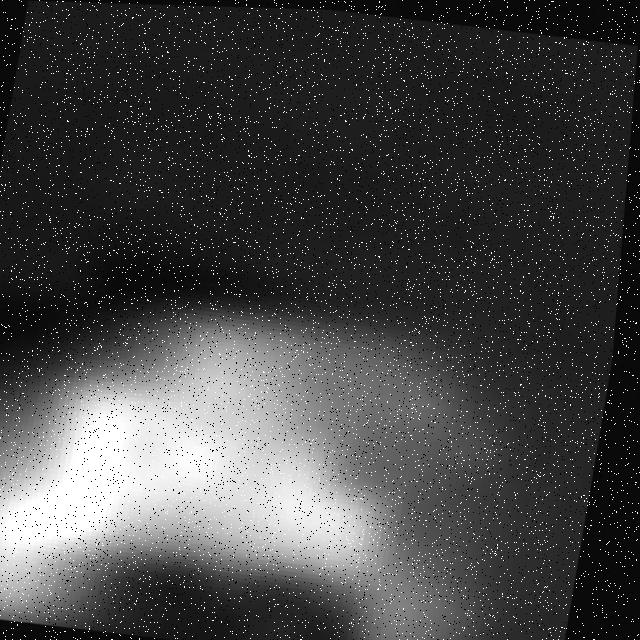person: (1, 261, 598, 640)
